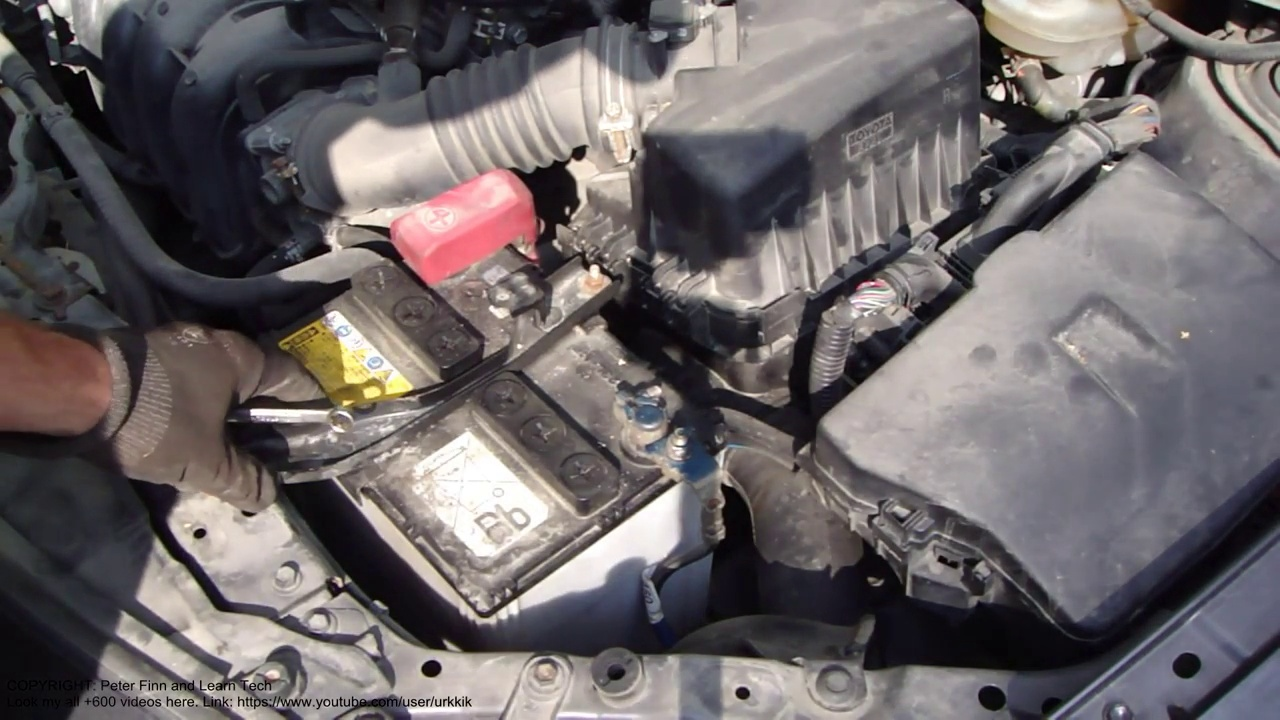battery: (220, 191, 714, 608)
neg_connected: (596, 358, 706, 490)
pos_connected: (384, 157, 544, 295)
